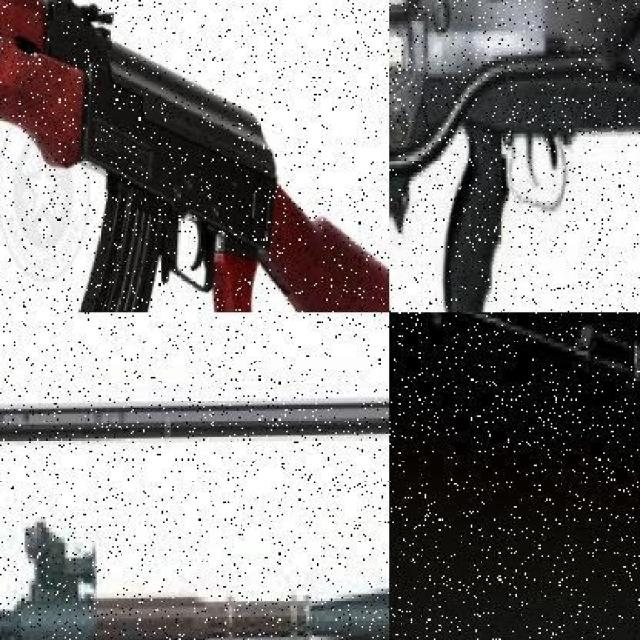weapon: (1, 0, 394, 311), (0, 388, 388, 449)
